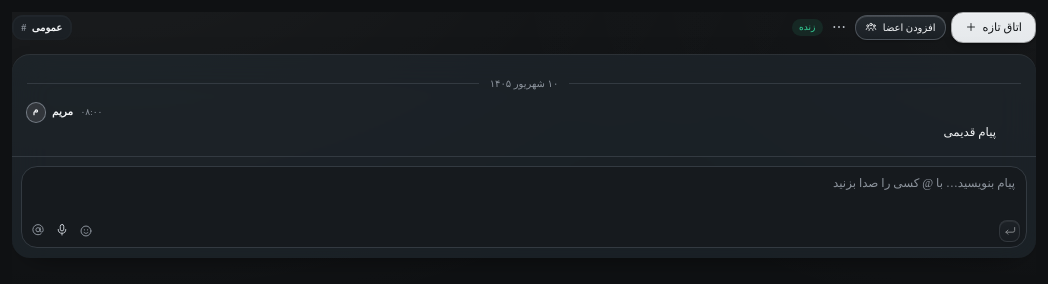
Scenario: standing in no room › empties the box when the room is deleted — with the list still stale
Expected: the text "پیام قدیمی" is shown, [944,124,996,138]
Click the button named "گزینه‌های اتاق" at {"x": 839, "y": 27}, box [828,16,850,38]
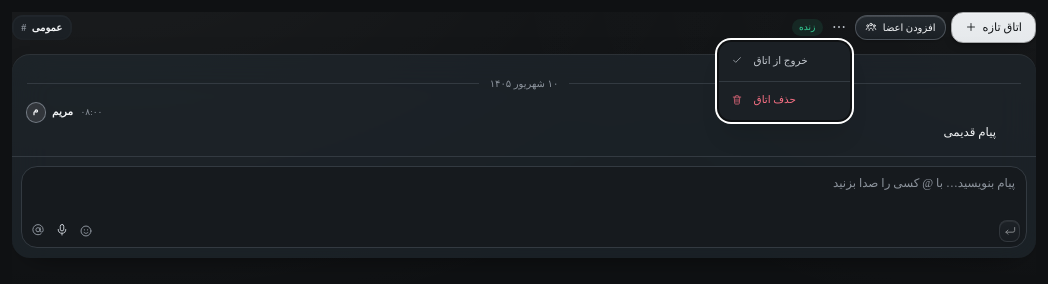
Click the menu item "حذف اتاق" at {"x": 764, "y": 100}, box [731,94,796,106]
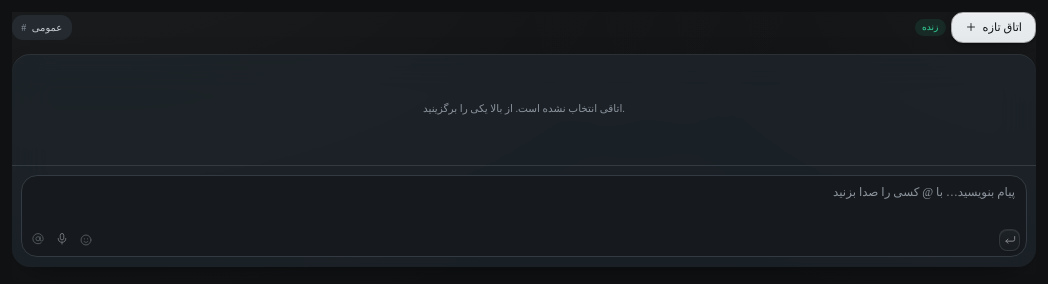
Now the text "اتاقی انتخاب نشده است. از بالا یکی را برگزینید." is shown, box [423,103,625,114]
Now the text "پیام قدیمی" is gone
